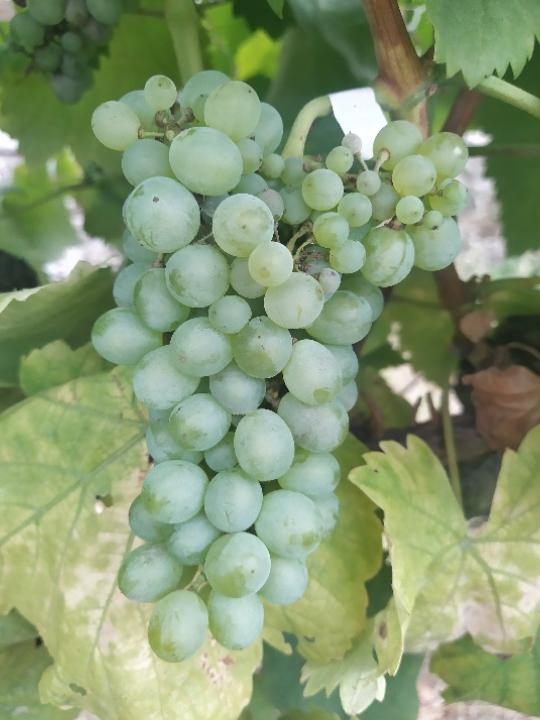grape: (88, 66, 473, 667)
